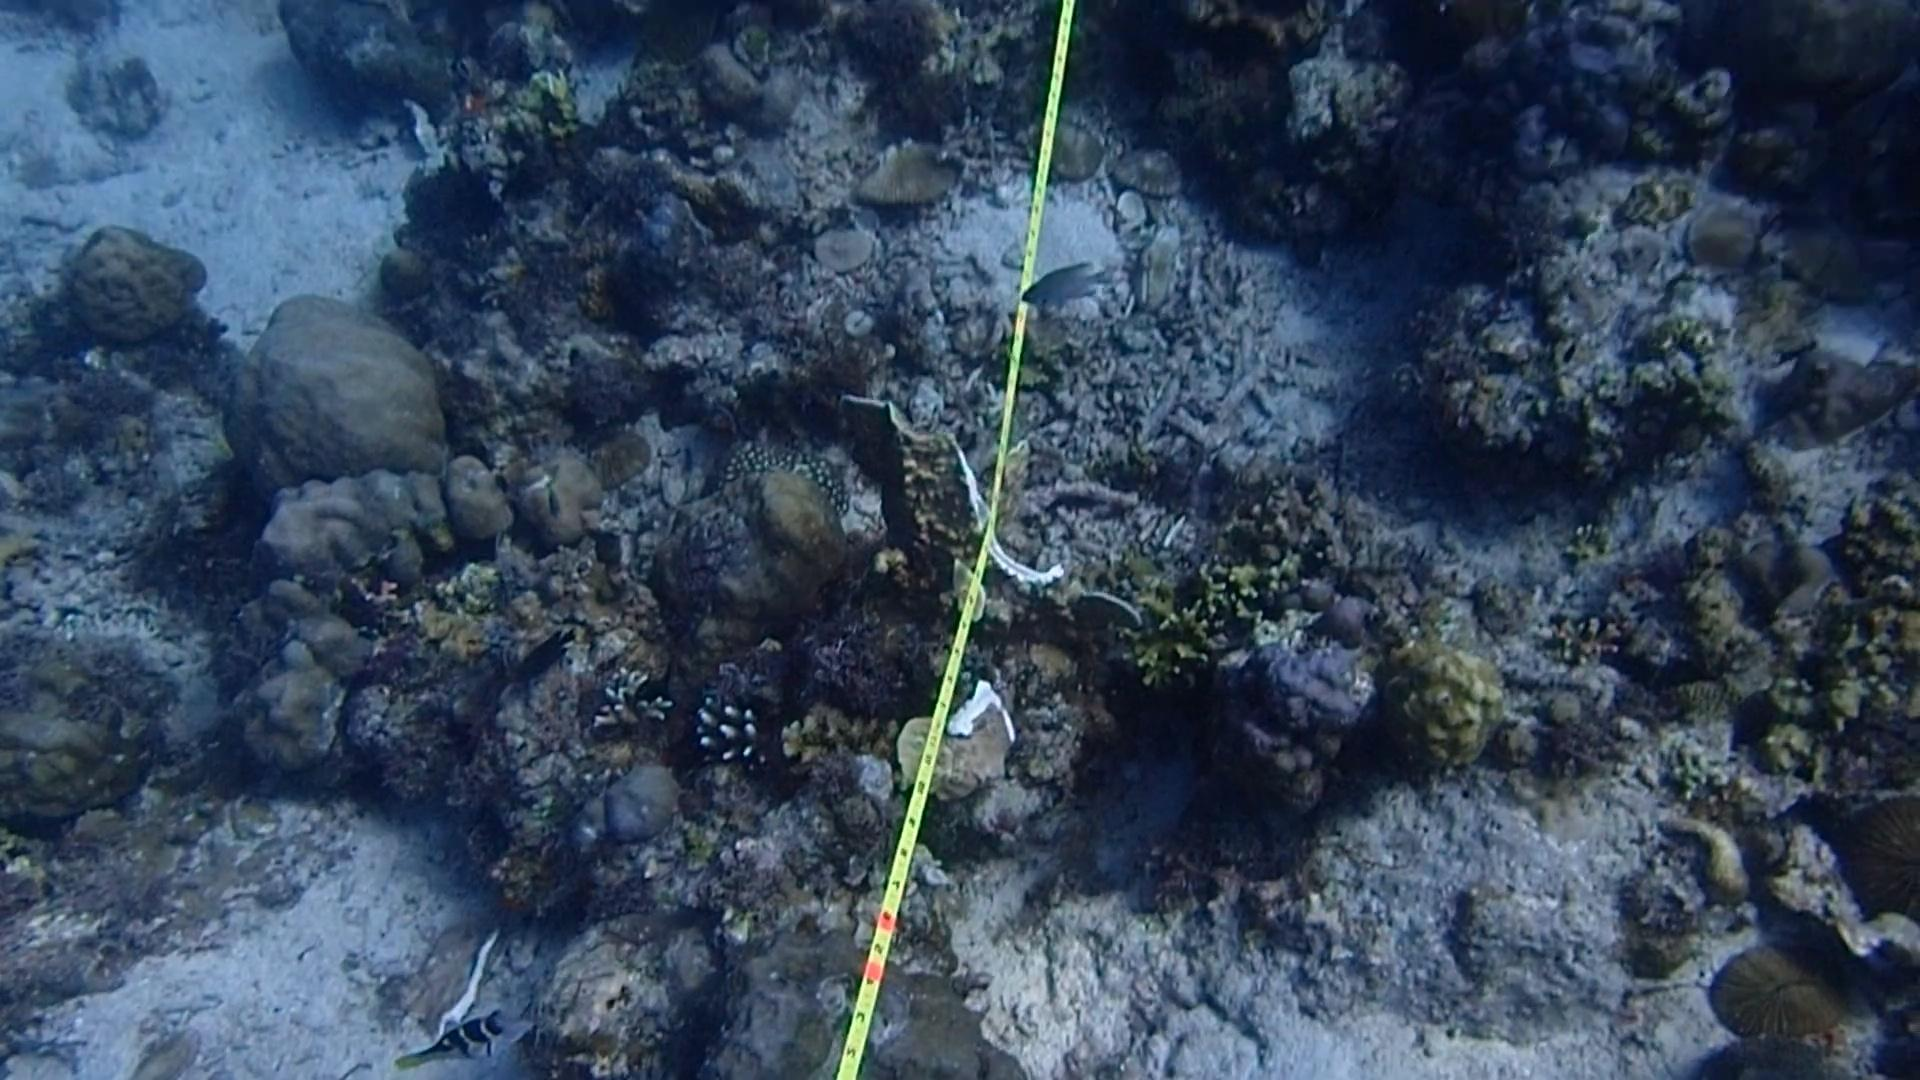Striped Fish: (397, 1001, 534, 1080)
